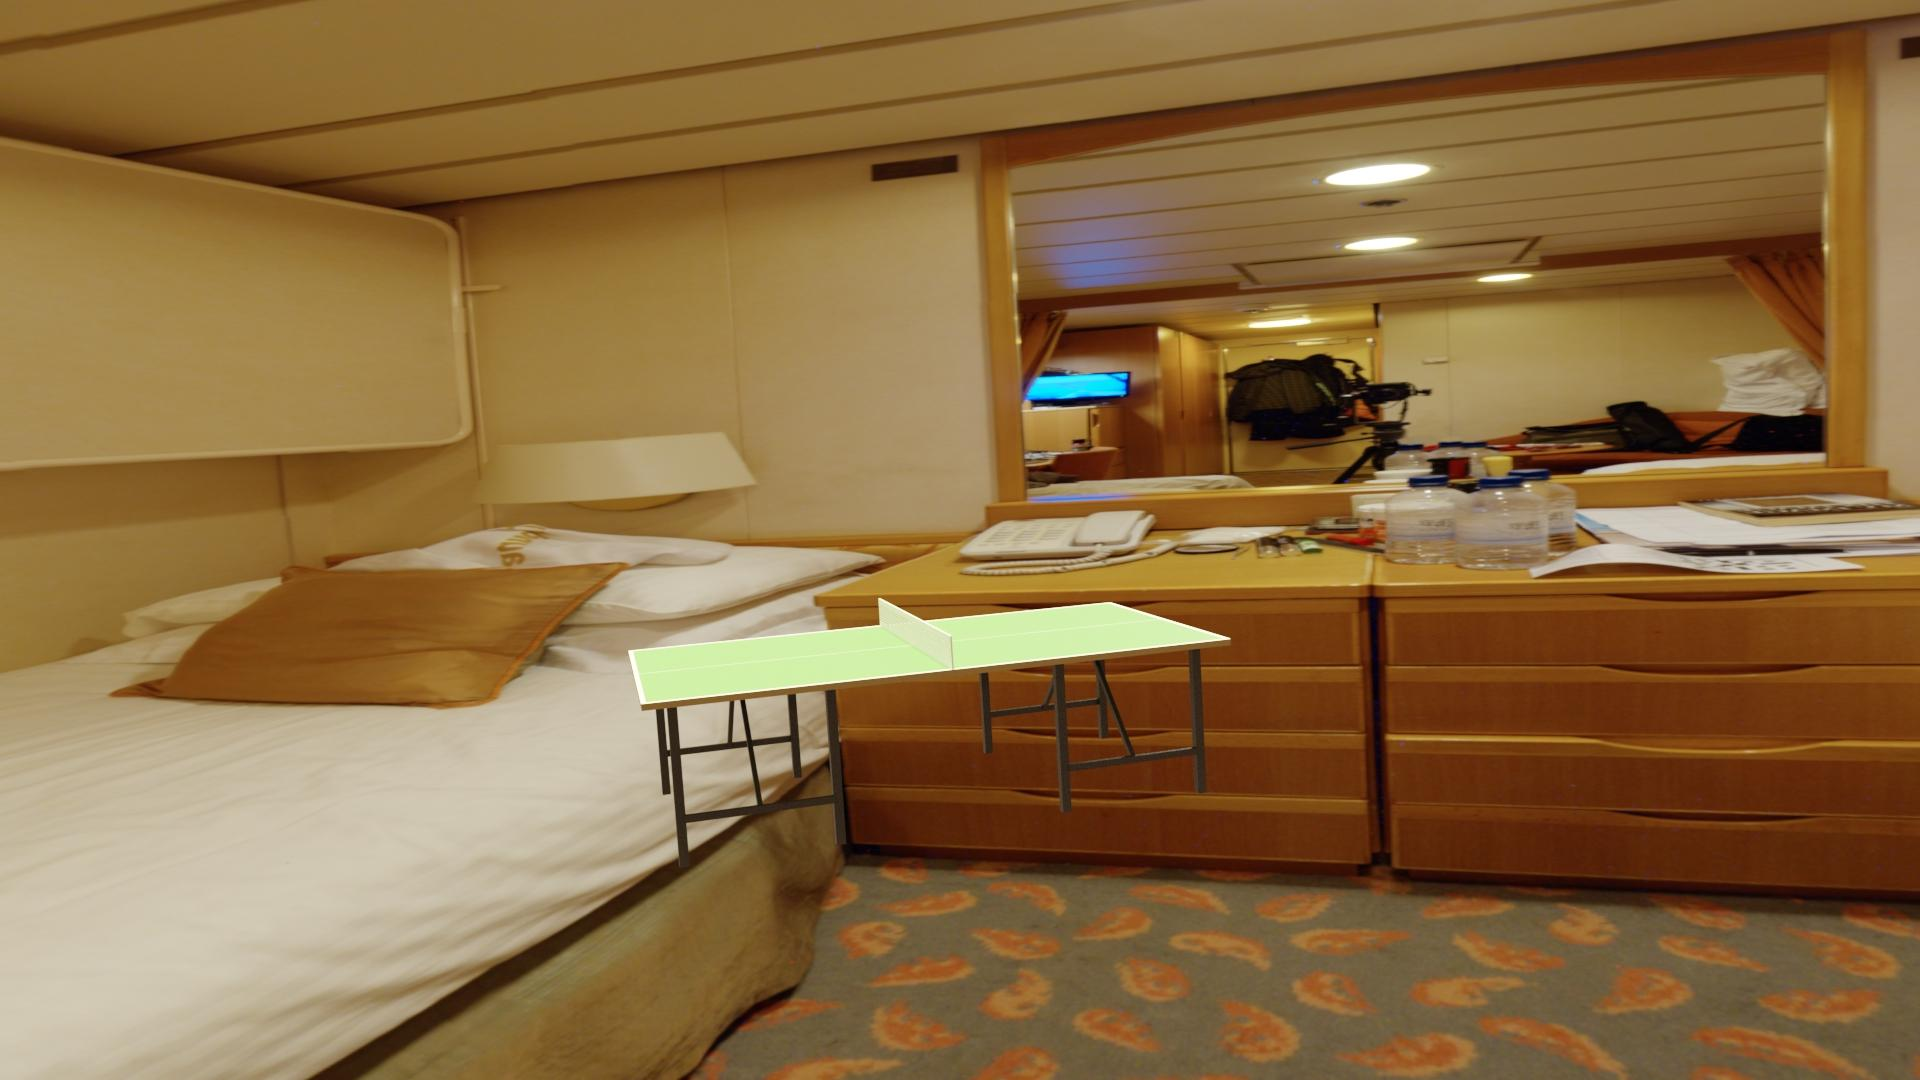table: (633, 603, 1225, 703)
